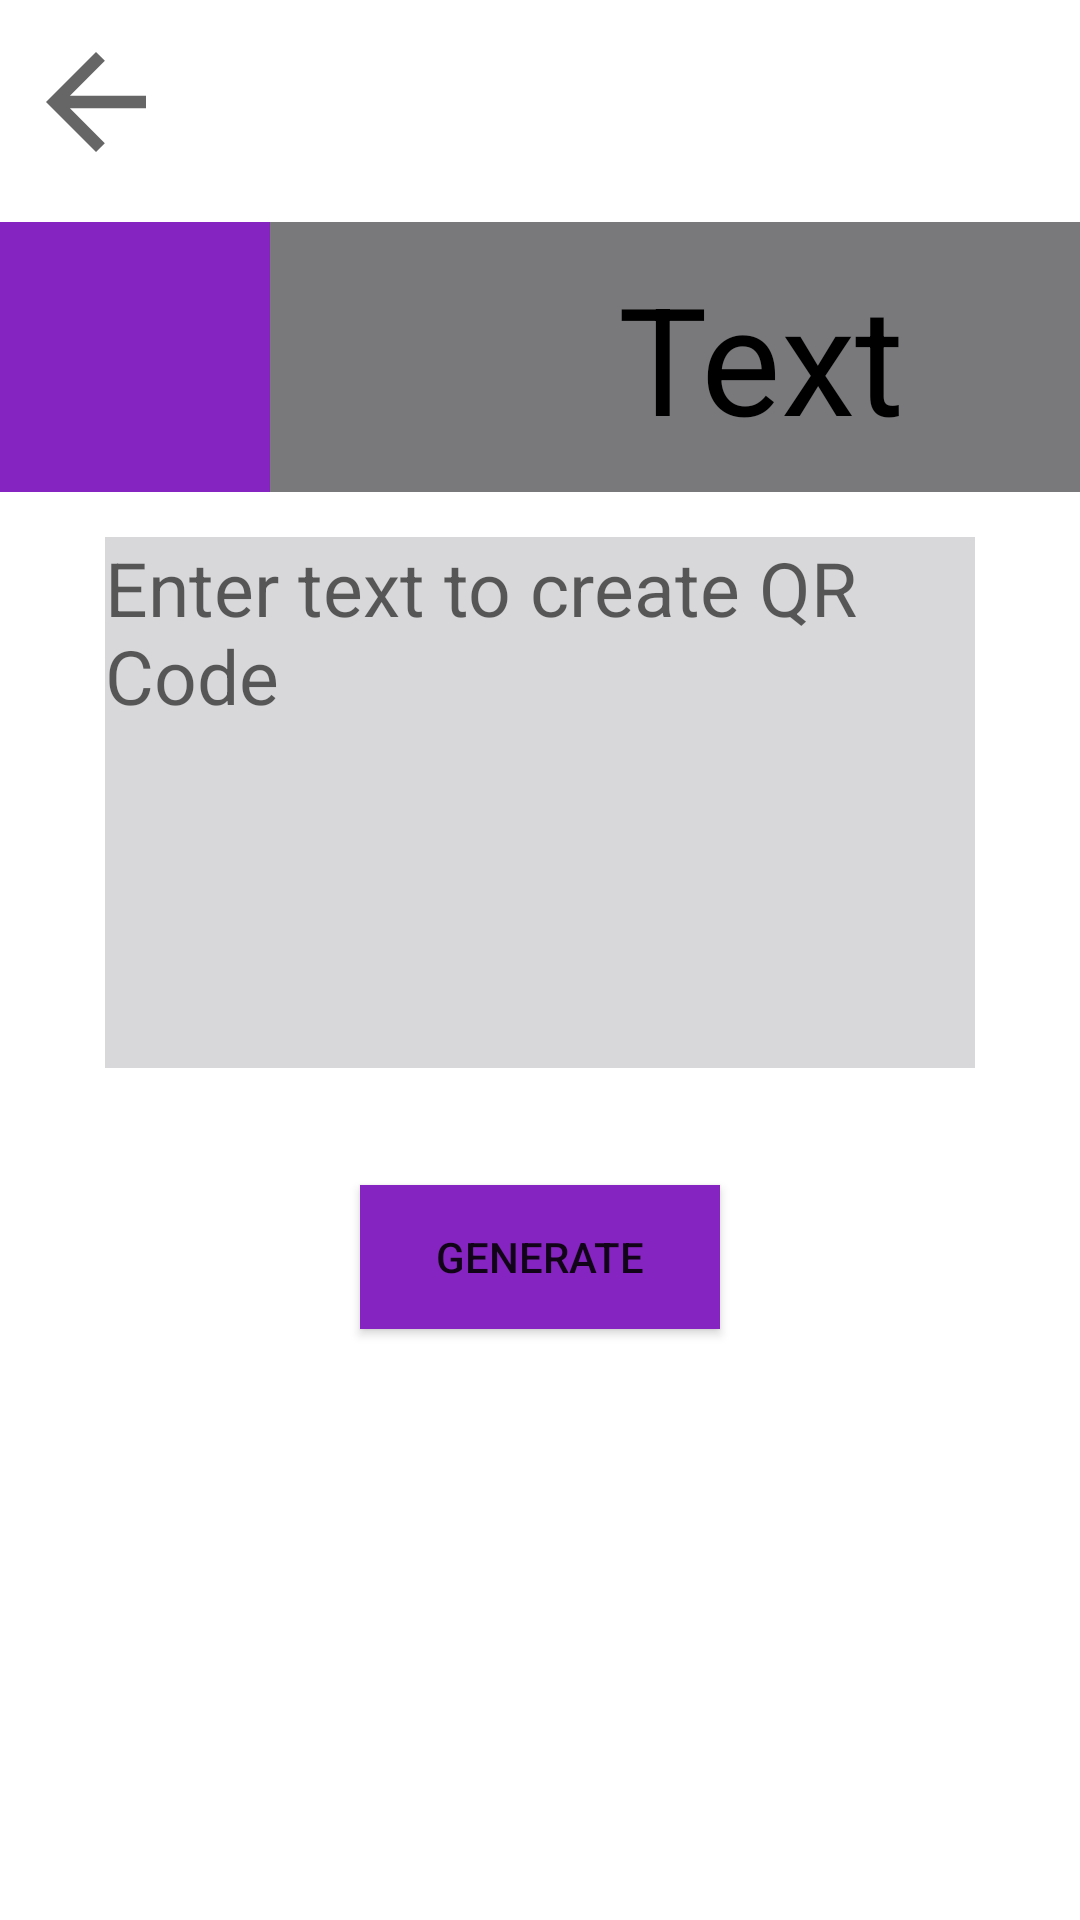

Icon click points for this 1080*1920 phone screenshot, format (x,y):
arrow back: (96,102)
